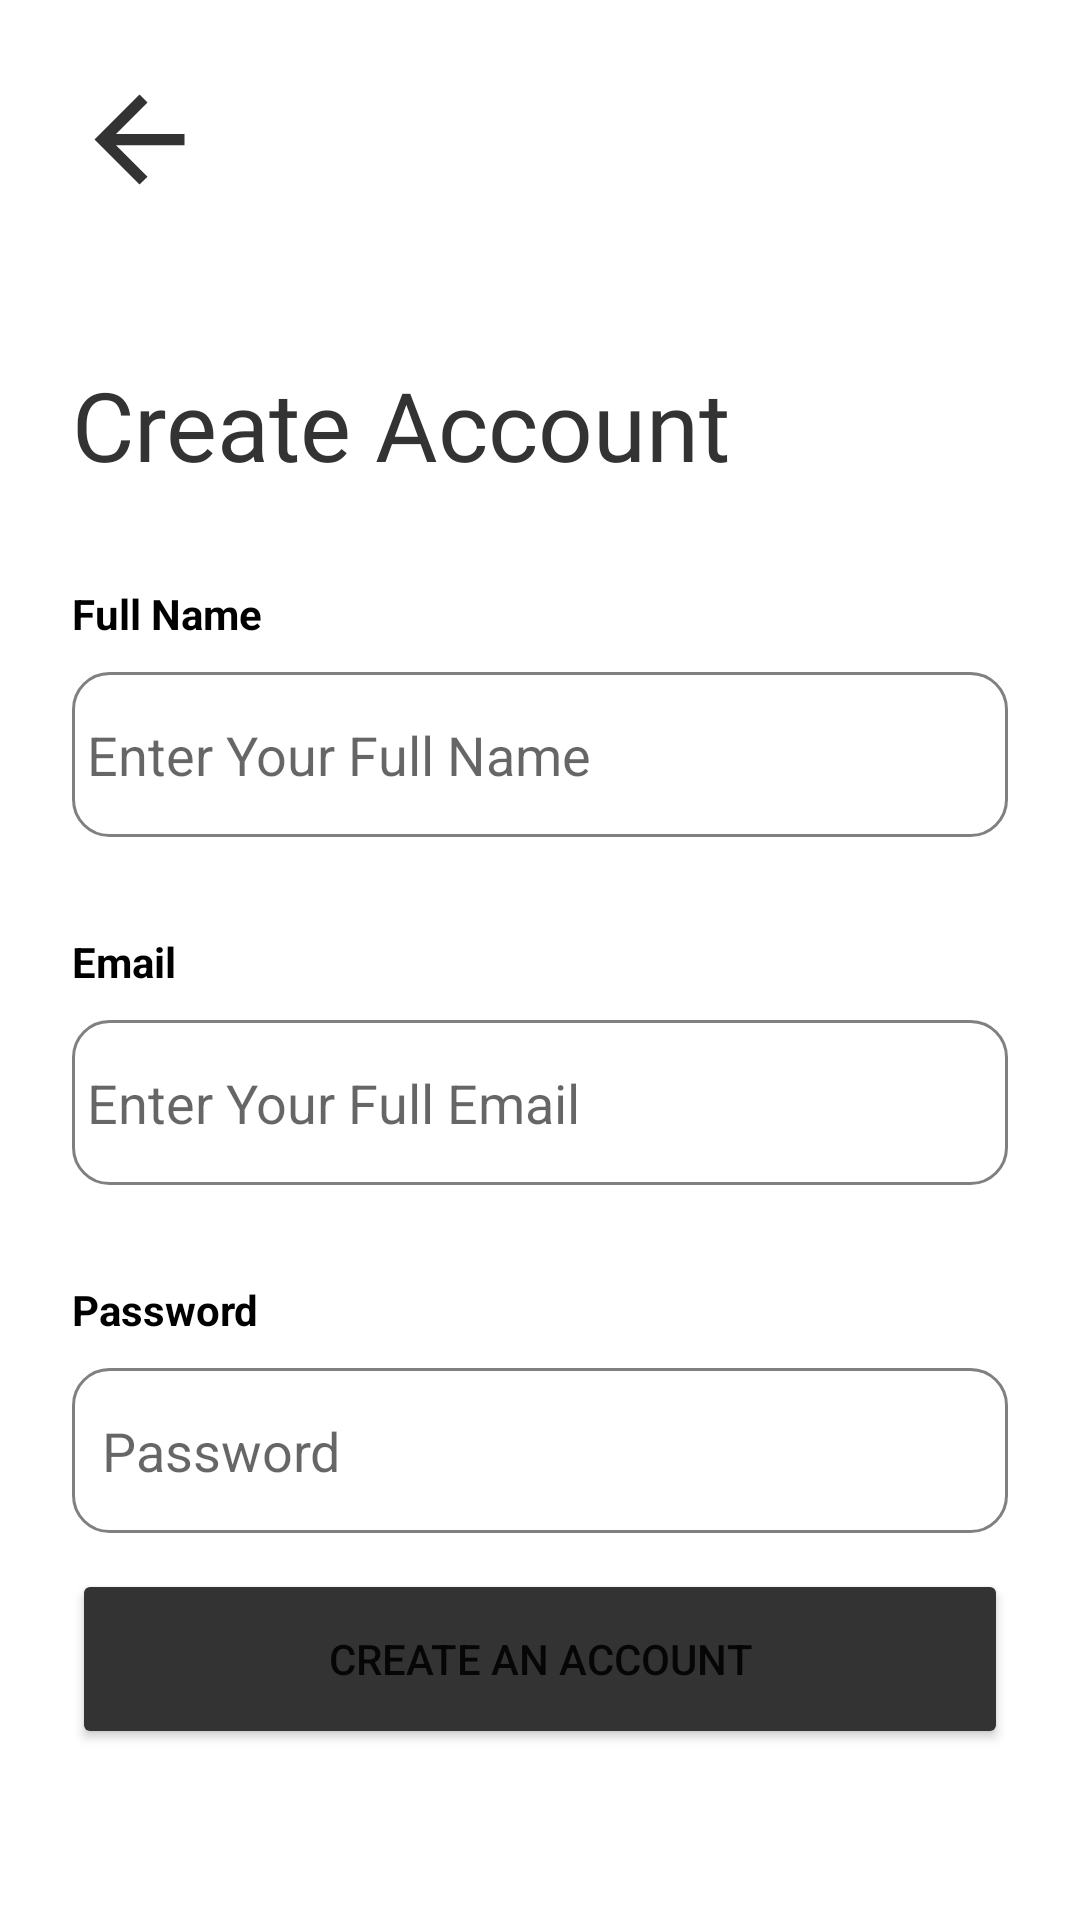

Icon click points for this 1080x1920 phone screenshot, format [x,y]:
back arrow: [139,139]
